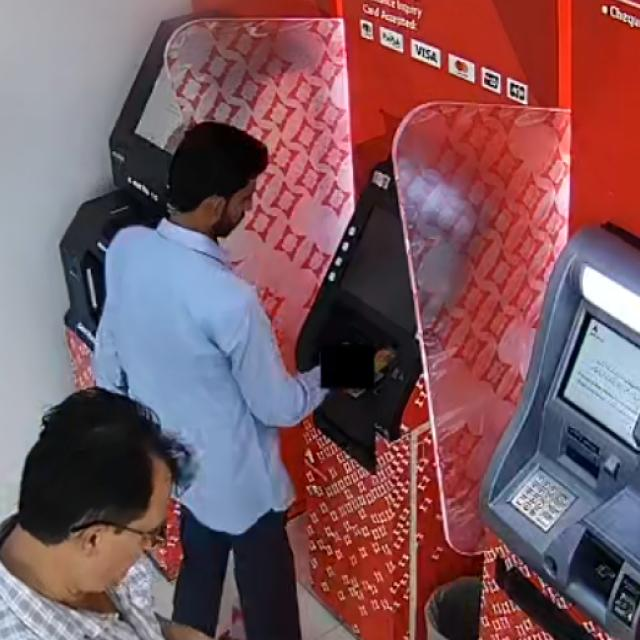atm-card: (371, 340, 400, 376)
